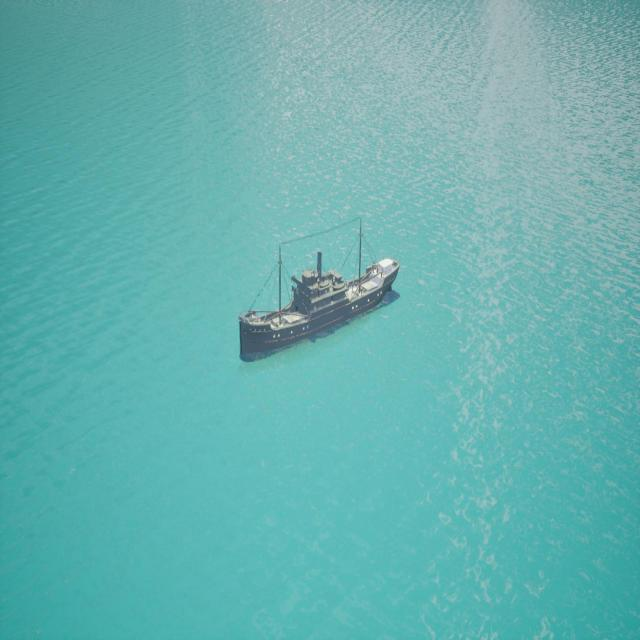fishing ship: (239, 250, 401, 364)
